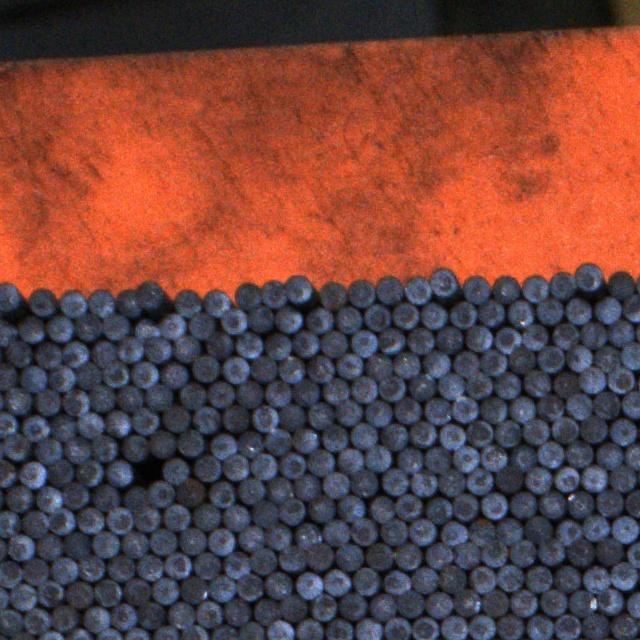tool: (430, 267, 459, 297), (575, 262, 604, 291), (347, 278, 375, 308), (463, 273, 491, 302), (286, 274, 314, 303), (492, 273, 520, 302), (403, 274, 431, 303), (58, 287, 86, 316), (173, 287, 201, 316), (318, 279, 346, 308), (88, 287, 116, 316), (608, 269, 636, 298), (375, 274, 402, 304), (207, 574, 235, 602), (438, 564, 466, 592), (567, 537, 595, 565), (448, 300, 476, 328), (130, 361, 158, 389), (203, 289, 231, 317), (234, 280, 262, 308), (28, 286, 55, 315), (138, 280, 165, 309), (522, 272, 548, 302), (102, 313, 130, 340), (509, 538, 536, 566), (406, 326, 433, 354), (349, 468, 376, 496), (130, 407, 158, 434), (338, 593, 366, 620), (551, 417, 579, 444), (236, 572, 263, 600), (596, 536, 623, 564), (493, 372, 520, 400), (424, 396, 451, 424), (188, 312, 215, 340), (613, 515, 640, 543), (479, 396, 506, 424), (583, 514, 610, 542), (368, 593, 395, 621), (569, 590, 597, 617), (436, 325, 464, 352), (235, 380, 262, 408), (172, 335, 200, 362), (144, 384, 172, 411), (149, 429, 176, 457), (524, 515, 552, 542), (104, 459, 132, 486), (592, 297, 620, 324), (607, 365, 635, 392), (65, 580, 92, 608), (144, 337, 172, 364), (160, 362, 188, 389), (606, 320, 633, 348), (306, 354, 333, 382), (176, 478, 203, 506), (62, 389, 89, 417), (535, 394, 562, 422), (305, 306, 332, 334), (122, 434, 149, 462), (91, 340, 118, 368), (550, 271, 576, 300), (262, 278, 288, 307), (379, 424, 406, 451), (163, 552, 190, 579), (453, 589, 480, 616), (396, 493, 423, 520), (91, 530, 118, 557), (205, 381, 232, 408), (423, 350, 450, 377), (264, 379, 291, 406), (192, 407, 219, 434), (223, 598, 250, 625), (77, 508, 104, 535), (495, 517, 522, 544), (323, 518, 350, 545), (408, 374, 435, 401), (291, 379, 318, 406), (149, 527, 176, 554), (350, 422, 377, 449), (350, 331, 377, 358), (5, 387, 32, 414), (177, 527, 204, 554), (208, 432, 235, 459), (150, 576, 177, 603), (523, 565, 550, 592), (365, 400, 392, 427), (379, 519, 406, 546), (21, 558, 48, 585), (592, 391, 619, 418), (193, 504, 220, 531), (582, 566, 609, 593), (46, 316, 73, 343), (116, 384, 143, 411), (93, 580, 120, 607), (464, 324, 491, 351), (306, 448, 333, 475), (75, 313, 102, 340), (47, 364, 74, 391), (166, 601, 193, 628), (565, 298, 592, 325), (424, 542, 451, 569), (51, 557, 78, 584), (160, 313, 187, 340), (610, 464, 637, 491), (23, 414, 50, 441), (92, 483, 119, 510), (496, 464, 523, 491), (451, 350, 478, 377), (321, 377, 348, 404), (33, 341, 60, 368), (3, 434, 30, 461), (90, 434, 116, 462), (351, 567, 377, 595), (564, 442, 592, 468), (5, 486, 33, 512), (612, 560, 638, 588), (510, 491, 538, 517), (480, 444, 506, 472), (322, 568, 348, 596), (335, 544, 363, 570), (540, 492, 566, 520), (438, 467, 464, 495), (409, 518, 435, 546), (508, 300, 534, 328), (220, 356, 248, 382), (440, 521, 468, 547), (337, 496, 365, 522), (465, 468, 491, 496), (264, 332, 290, 360), (178, 576, 204, 604), (580, 414, 606, 442), (438, 374, 466, 400), (553, 564, 579, 592), (338, 448, 364, 476), (10, 582, 36, 610), (612, 614, 640, 640), (336, 398, 362, 426), (350, 517, 376, 545), (196, 601, 222, 629), (77, 458, 103, 486), (381, 570, 409, 596), (452, 492, 478, 520), (308, 494, 334, 522), (18, 314, 44, 342), (567, 490, 593, 518), (246, 304, 272, 332), (292, 330, 318, 358), (536, 537, 564, 563), (266, 477, 292, 505), (114, 289, 140, 317), (508, 345, 534, 373), (48, 458, 74, 486), (553, 614, 580, 640), (363, 446, 390, 472), (362, 305, 388, 332), (163, 503, 189, 530), (478, 300, 504, 327), (222, 503, 248, 530), (494, 419, 520, 446), (565, 345, 591, 372), (582, 614, 609, 640), (480, 492, 506, 519), (509, 590, 536, 616), (219, 308, 246, 334), (538, 589, 564, 616), (8, 533, 34, 560), (251, 547, 277, 574), (264, 429, 291, 455), (207, 528, 233, 555), (468, 614, 495, 640), (397, 590, 423, 617), (63, 436, 89, 463), (321, 471, 348, 497), (536, 442, 562, 469), (222, 552, 248, 579), (194, 553, 220, 580), (309, 594, 336, 620), (525, 465, 551, 492), (536, 298, 563, 324), (564, 394, 591, 420), (19, 460, 45, 487), (350, 375, 376, 402), (410, 420, 436, 447), (104, 410, 130, 437), (306, 544, 332, 571), (335, 307, 362, 333), (336, 351, 362, 378), (321, 331, 347, 358), (133, 505, 159, 532), (78, 555, 105, 581), (266, 571, 292, 598), (136, 553, 162, 580), (124, 578, 150, 605), (392, 350, 418, 377), (278, 546, 305, 572), (274, 306, 301, 332), (509, 445, 535, 472), (596, 442, 622, 469), (320, 425, 346, 452), (61, 341, 87, 368), (451, 446, 477, 473), (296, 572, 323, 598), (62, 481, 88, 508), (22, 365, 48, 392), (252, 453, 278, 480), (194, 454, 220, 481), (249, 356, 276, 382), (419, 302, 445, 329), (62, 531, 88, 558), (102, 361, 128, 388), (136, 601, 163, 627), (176, 429, 202, 456), (204, 332, 231, 358), (236, 478, 262, 505), (598, 588, 624, 615), (35, 486, 61, 513), (33, 388, 59, 415), (279, 594, 305, 621), (120, 530, 146, 557), (364, 354, 391, 380), (51, 413, 77, 440), (178, 383, 204, 410), (554, 519, 580, 546), (253, 598, 280, 624), (162, 405, 189, 431), (7, 339, 33, 366), (149, 480, 174, 508), (468, 519, 493, 547), (426, 592, 452, 618), (235, 332, 261, 358), (581, 464, 607, 490), (480, 348, 506, 374), (395, 544, 421, 570), (382, 467, 408, 493), (366, 542, 392, 568), (467, 420, 493, 446), (105, 508, 131, 534), (393, 302, 419, 328), (538, 346, 564, 372), (427, 497, 453, 523), (596, 490, 622, 516), (22, 607, 48, 633), (277, 356, 303, 382), (221, 406, 247, 432), (21, 512, 47, 538), (497, 614, 523, 640), (208, 482, 234, 508), (221, 456, 247, 482), (580, 322, 606, 348), (495, 326, 521, 352), (469, 566, 495, 592), (106, 555, 132, 581), (278, 452, 304, 478), (508, 395, 534, 421), (192, 356, 218, 382), (610, 418, 636, 444), (378, 328, 404, 354), (451, 395, 477, 421), (522, 418, 548, 444), (481, 590, 507, 616), (252, 499, 278, 525), (83, 605, 109, 631), (294, 475, 320, 501), (237, 524, 263, 550), (552, 324, 578, 350), (163, 458, 189, 484), (118, 336, 144, 362), (264, 523, 290, 549), (52, 604, 78, 630), (252, 406, 278, 432), (594, 346, 620, 372), (307, 403, 333, 429), (295, 523, 321, 549), (76, 412, 102, 438), (37, 438, 63, 464), (498, 565, 523, 592), (524, 615, 551, 640), (109, 602, 134, 629), (438, 424, 465, 449), (369, 495, 394, 522), (411, 567, 436, 594), (481, 540, 506, 567), (394, 396, 419, 423), (37, 581, 62, 608), (278, 497, 303, 524), (77, 361, 102, 388), (89, 384, 114, 411), (0, 282, 22, 312), (49, 508, 74, 534), (521, 323, 546, 349), (524, 369, 549, 395), (412, 471, 437, 497), (453, 542, 478, 568), (579, 368, 605, 393), (467, 372, 492, 398), (425, 446, 450, 472), (378, 376, 404, 401), (292, 427, 318, 452), (278, 406, 303, 432), (35, 533, 60, 559), (552, 372, 577, 398), (353, 617, 381, 640), (553, 467, 578, 492), (398, 448, 423, 473), (237, 431, 262, 456), (440, 616, 466, 640), (383, 617, 410, 640), (124, 486, 149, 510), (412, 617, 438, 640), (296, 618, 323, 640), (0, 608, 22, 635), (132, 321, 158, 343), (267, 619, 294, 640), (0, 559, 21, 586), (324, 619, 351, 640), (0, 511, 19, 538), (621, 342, 640, 369), (622, 292, 640, 320), (622, 390, 640, 418), (237, 622, 263, 640), (0, 362, 17, 389), (0, 412, 17, 438), (0, 319, 16, 346), (209, 624, 235, 640), (625, 489, 640, 516), (0, 461, 15, 488), (182, 625, 208, 640), (626, 443, 640, 469), (152, 626, 178, 640), (65, 627, 92, 640), (96, 627, 122, 640), (627, 592, 640, 618), (627, 540, 640, 566), (124, 627, 150, 640), (37, 630, 63, 640), (9, 631, 34, 640), (0, 585, 8, 612), (0, 537, 6, 564), (635, 271, 640, 298), (0, 633, 9, 640)
